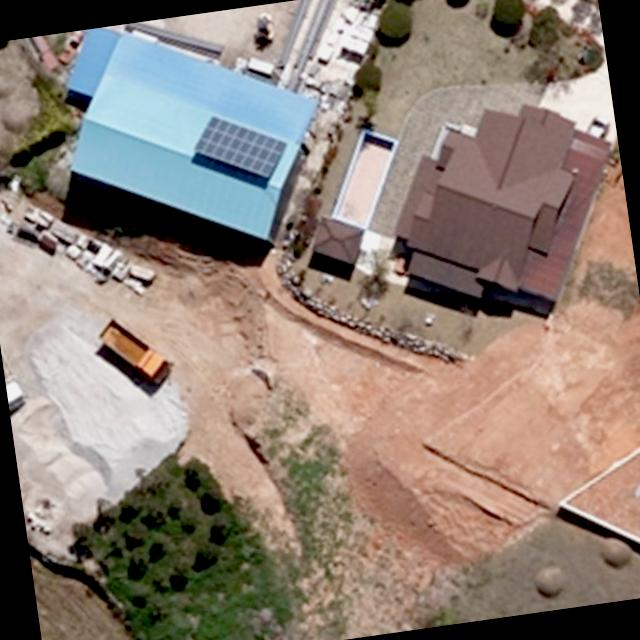solar: (185, 105, 294, 194)
